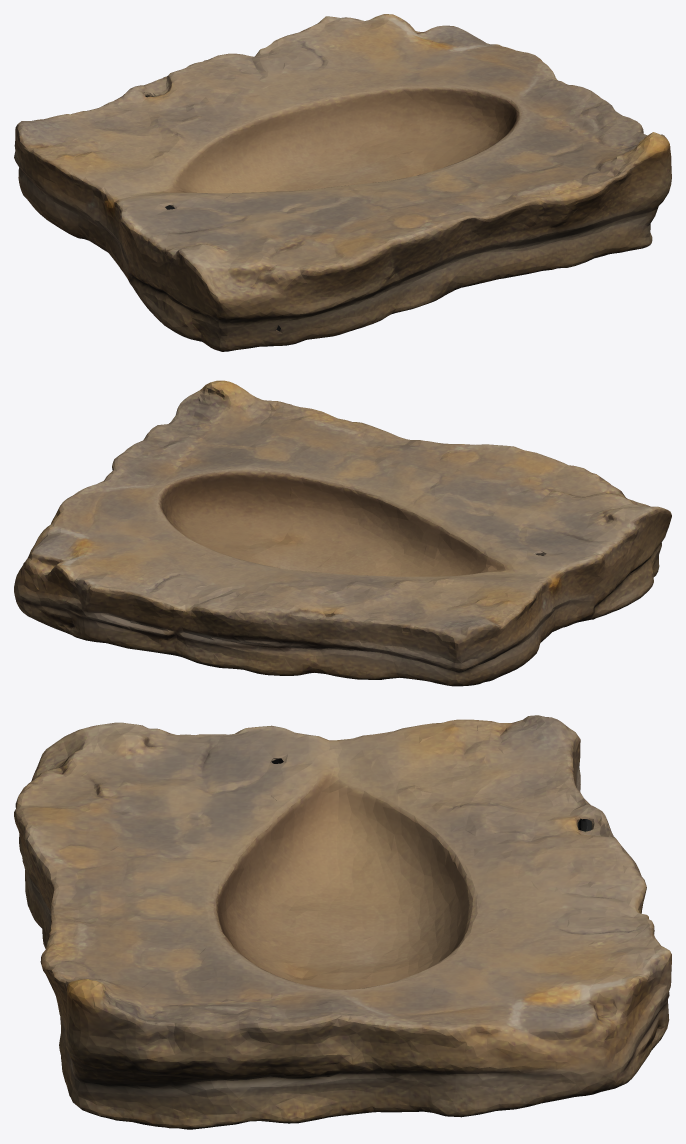
3 views of the same model, one above another, from view 1: azimuth 30°, elevation 25°; view 2: azimuth 150°, elevation 25°; view 3: azimuth 270°, elevation 25° (orthographic). The views are drawn at different scales.
Parts seen in each view (by area): view 1: world; view 2: world; view 3: world.
Boxes of the visible parts, x1,y1,x2,y2 form: world: [14, 14, 671, 351]; world: [14, 380, 671, 686]; world: [14, 715, 671, 1129].
Size of the model in its own units: 0.992 by 0.2083 by 0.9009.
1 material, 1 textured.
